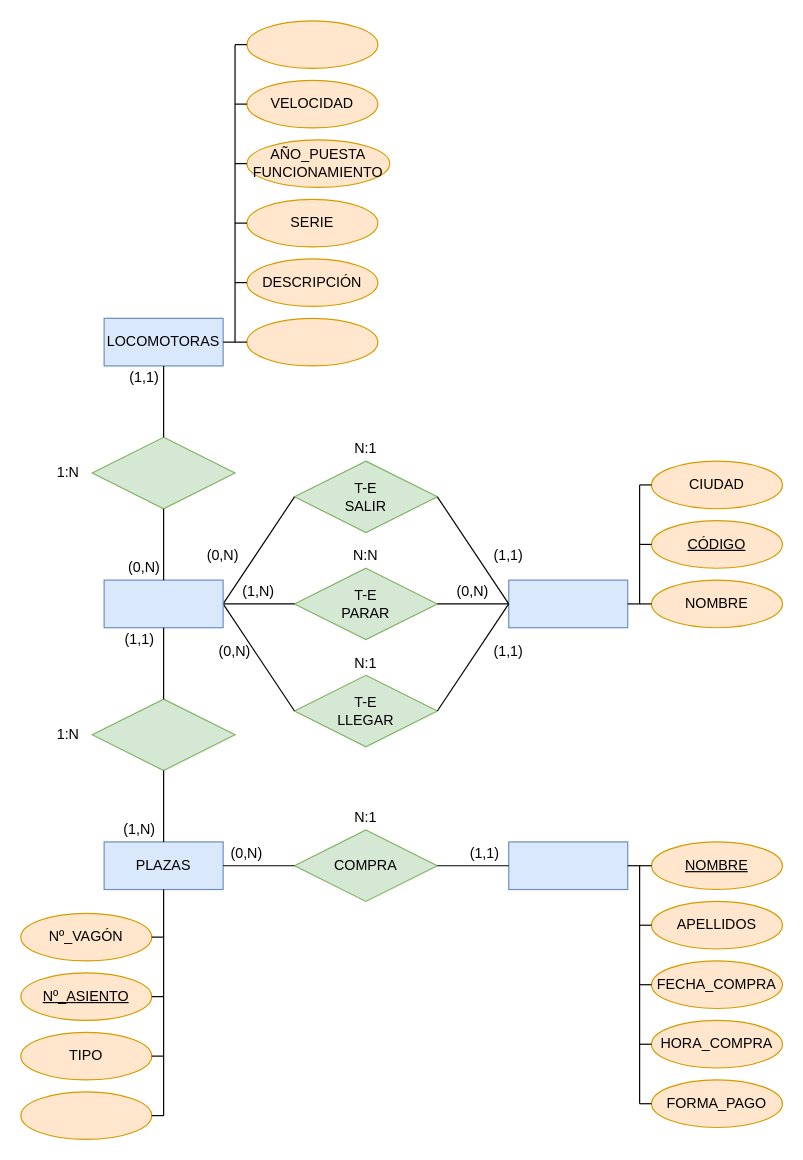
Some shapes in this 803 by 1160 pixel diagram are drawn without their labels. The shapes that lost their labels are listed below. From the top down, each one's box as (x1, y1, x2, y2) in pixels, then its label:
(246, 20, 378, 68): FABRICANTE
(246, 317, 378, 366): MODELO
(91, 436, 235, 509): L-T EMPLEARSE
(103, 579, 223, 628): TRAYECTOS
(508, 579, 628, 628): ESTACIONES
(91, 698, 235, 771): T-P DISPONER
(508, 841, 628, 890): CLIENTES
(20, 1091, 152, 1139): TARIFA
